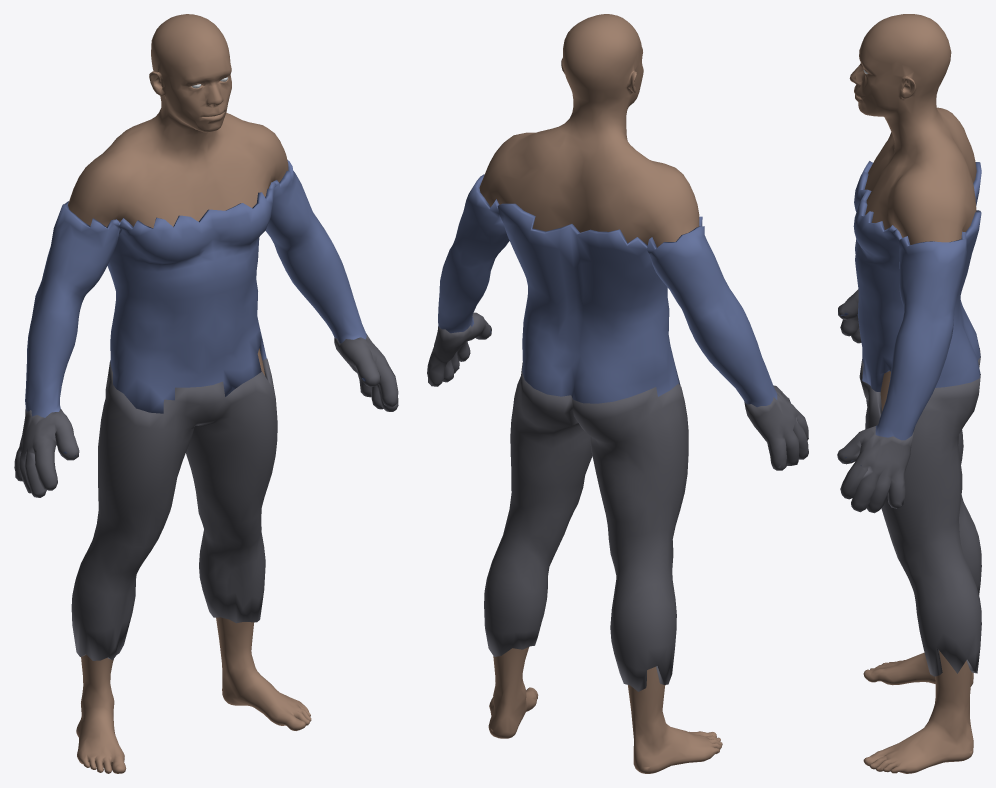
Rendered from variant_male_deep.glb.
3 renders of one model, left to right at view 1: azimuth 30°, elevation 25°; view 2: azimuth 150°, elevation 25°; view 3: azimuth 270°, elevation 25°, orthographic.
Visible parts, largest first — view 1: PeriHuman; view 2: PeriHuman; view 3: PeriHuman.
Part boxes in pixels (left/top/right/bottom): PeriHuman: left=14, top=14, right=398, bottom=773; PeriHuman: left=427, top=14, right=808, bottom=773; PeriHuman: left=837, top=14, right=981, bottom=773.
Bounding box in the file's own units: 0.9733 × 1.82 × 0.3376.
